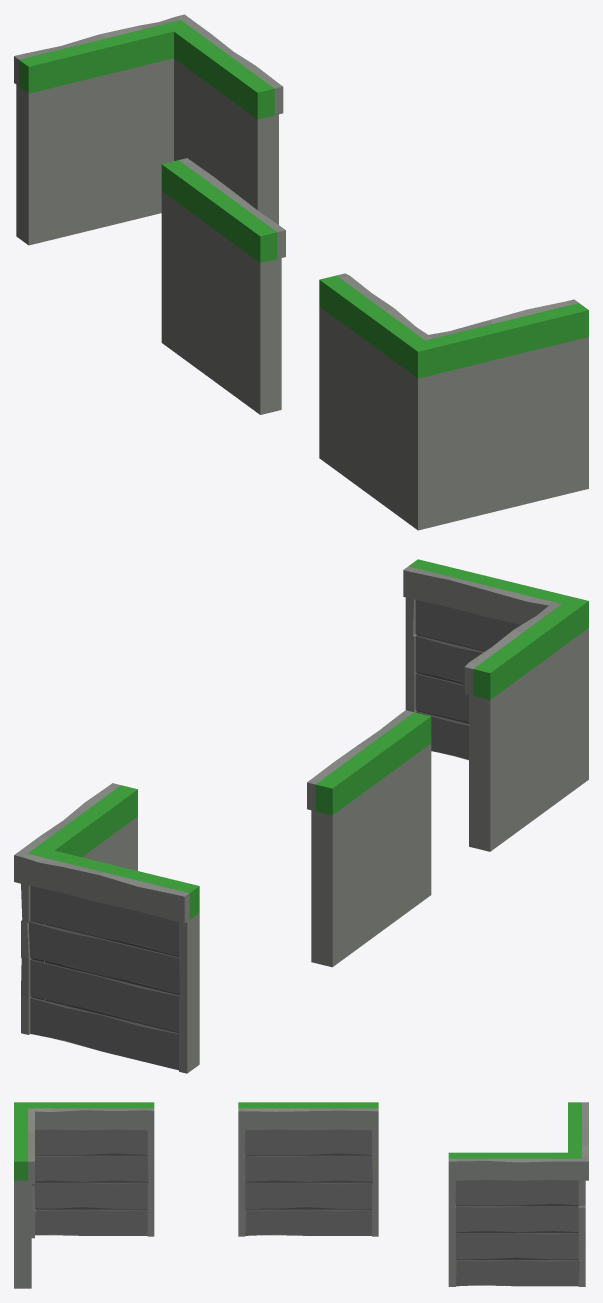
Rendered from StoneWalls.fbx.
3 renders of one model, top to bottom at view 1: azimuth 30°, elevation 25°; view 2: azimuth 150°, elevation 25°; view 3: azimuth 270°, elevation 25°, orthographic. The views are drawn at different scales.
Visible parts, largest first — view 1: Cube.001, Cube.002, Cube; view 2: Cube.002, Cube.001, Cube; view 3: Cube.001, Cube.002, Cube.
Boxes of the visible parts, <box> form: Cube.001: <box>319,273,588,530</box>; Cube.002: <box>14,14,283,245</box>; Cube: <box>161,158,285,414</box>; Cube.002: <box>14,783,199,1073</box>; Cube.001: <box>403,559,588,851</box>; Cube: <box>307,710,431,967</box>; Cube.001: <box>14,1102,154,1288</box>; Cube.002: <box>448,1102,588,1286</box>; Cube: <box>238,1102,378,1236</box>.
Bounding box in the file's own units: 2003 × 2015 × 8202.
